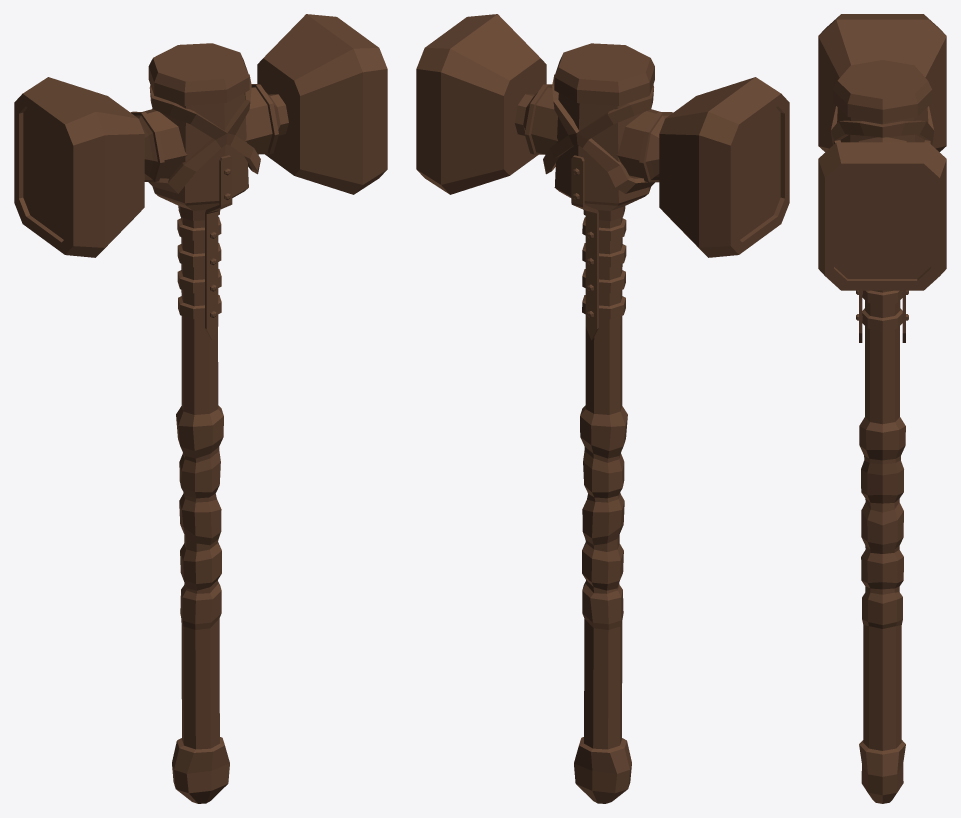
The model's file is Hammer_Double.glb.
3 views of the same model, side by side, from view 1: azimuth 30°, elevation 25°; view 2: azimuth 150°, elevation 25°; view 3: azimuth 270°, elevation 25° (orthographic). The views are drawn at different scales.
Size of the model in its own units: 2.22 by 4.97 by 0.8057.
